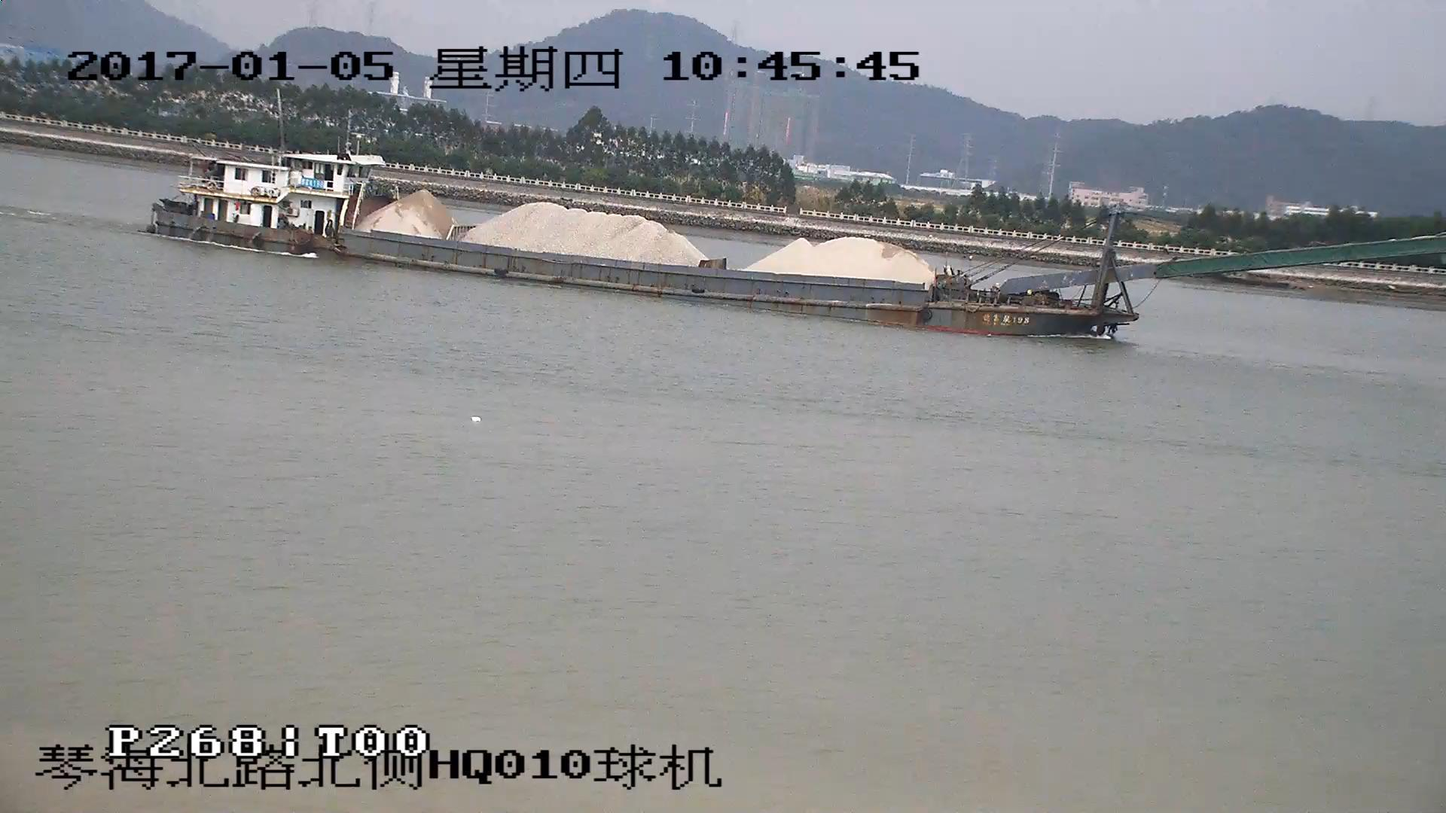ore carrier: (151, 145, 1444, 343)
